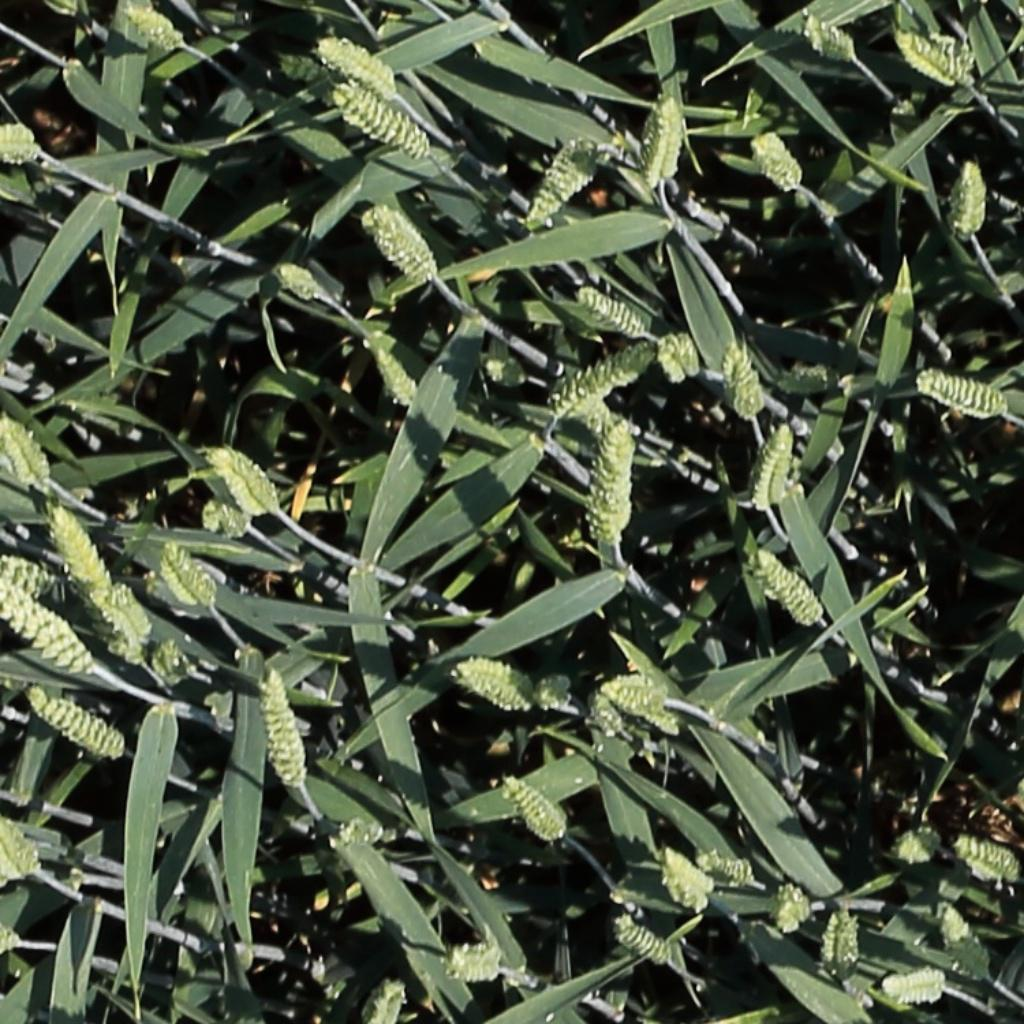0-0: (0, 580, 94, 686), (357, 202, 449, 295), (585, 409, 642, 549), (43, 498, 118, 602), (334, 79, 431, 154), (263, 663, 317, 794), (524, 132, 595, 230), (914, 370, 1016, 438), (25, 689, 124, 759), (555, 344, 653, 413), (156, 540, 238, 616), (753, 547, 827, 629), (0, 412, 68, 496), (641, 91, 697, 190), (111, 1, 196, 65), (99, 581, 161, 668), (208, 445, 281, 517), (444, 650, 530, 710), (501, 774, 569, 845), (950, 825, 1024, 889), (572, 282, 652, 341), (741, 129, 810, 197), (0, 806, 55, 891), (813, 904, 873, 981), (951, 153, 999, 249), (659, 849, 722, 922), (600, 665, 674, 727), (318, 39, 398, 96), (604, 904, 677, 965), (898, 30, 974, 87), (755, 417, 798, 513), (887, 813, 950, 878), (371, 339, 424, 412), (322, 809, 392, 863), (447, 929, 509, 989), (523, 660, 581, 724), (699, 835, 767, 887), (0, 545, 63, 600), (780, 348, 845, 401), (726, 335, 764, 425), (879, 966, 954, 1010), (478, 344, 533, 402), (771, 879, 817, 942), (804, 10, 858, 62), (0, 120, 52, 174), (145, 631, 190, 692), (929, 891, 975, 949), (821, 973, 878, 1018), (587, 688, 629, 744), (271, 259, 322, 305), (658, 329, 697, 387), (203, 498, 251, 539), (372, 973, 409, 1024), (281, 54, 338, 83)
